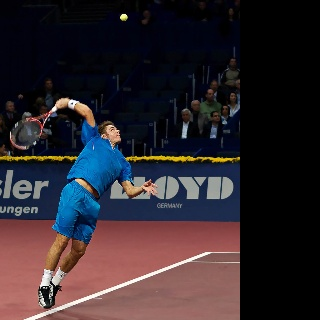without_mask: (37, 97, 158, 308)
